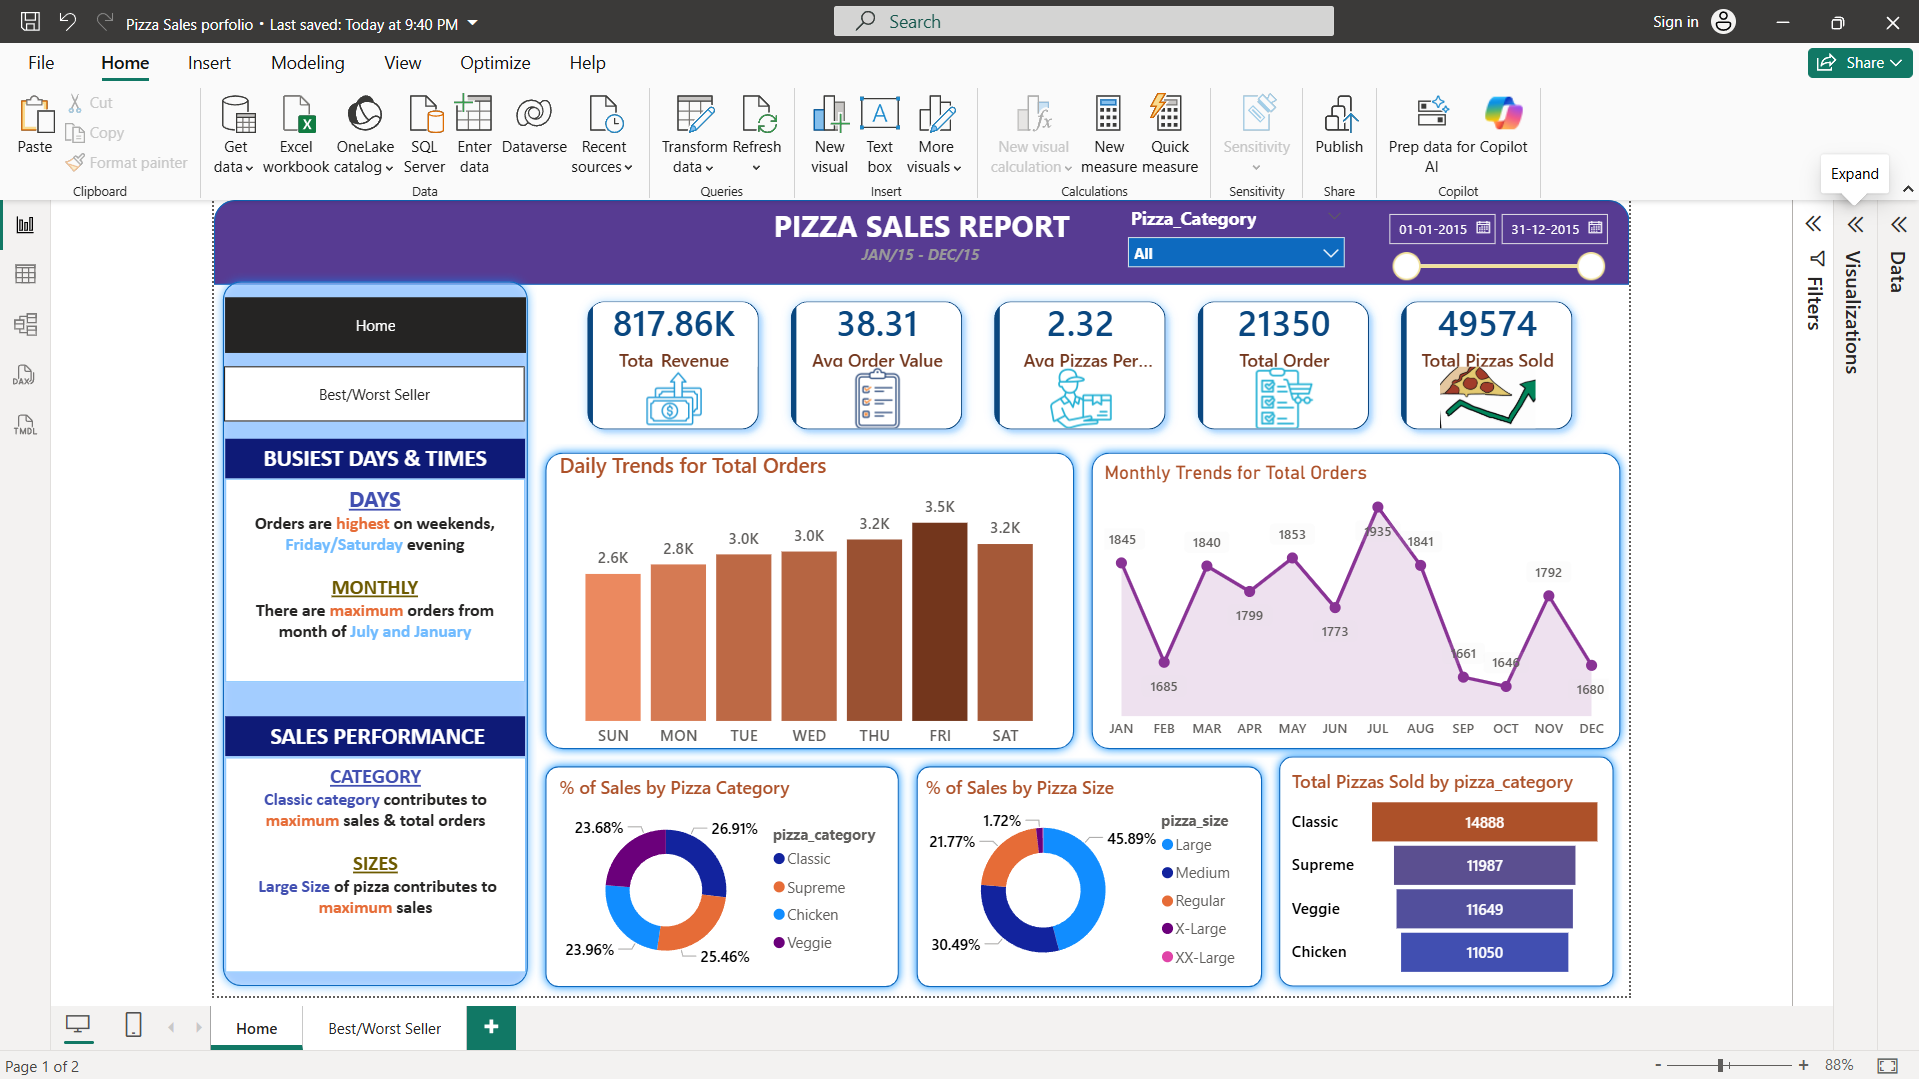

What the dashboard file says about the page in this screenshot:
{"tool":"powerbi","page":{"name":" Home","canvas":[1280,720],"ordinal":0},"visuals":[{"type":"cardVisual","fields":{"Data":["pizza_sales.Tota_Revenue","pizza_sales.Avg Order Value","pizza_sales.Avg Pizzas Per Order","pizza_sales.Total Order","pizza_sales.Total Pizzas Sold"]},"box":[290.9,64.9,989.6,170.1],"z":0},{"type":"shape","box":[0,0,1280.2,76.7],"z":1000},{"type":"textbox","box":[484.9,0,310.5,48.8],"z":2000},{"type":"textbox","box":[565.1,34.9,147.7,30.2],"z":3000},{"type":"shape","box":[291.4,220,494.3,284.3],"z":4000},{"type":"columnChart","title":"Daily Trends for Total Orders","fields":{"Category":["pizza_sales.Order Day"],"Y":["pizza_sales.Total Order"]},"box":[307.1,227.1,462.9,277.1],"z":5000},{"type":"shape","box":[785.7,220,494.3,284.3],"z":5001},{"type":"areaChart","title":" Monthly Trends for Total Orders","fields":{"Category":["pizza_sales.Order Month"],"Y":["pizza_sales.Total Order"]},"box":[800,236.4,466.2,259.7],"z":5002},{"type":"shape","box":[291.4,504.3,335.7,215.7],"z":5003},{"type":"shape","box":[627.1,504.3,328.6,215.7],"z":5004},{"type":"shape","box":[955.7,495.7,318.6,224.3],"z":5005},{"type":"donutChart","title":"% of Sales by Pizza Category","fields":{"Category":["pizza_sales.pizza_category"],"Y":["pizza_sales.Tota_Revenue"]},"box":[307.1,520,302.9,187.1],"z":5006},{"type":"donutChart","title":"% of Sales by Pizza Size","fields":{"Y":["pizza_sales.Tota_Revenue"],"Category":["pizza_sales.pizza_size"]},"box":[638.6,520,302.9,187.1],"z":5007},{"type":"funnel","fields":{"Category":["pizza_sales.pizza_category"],"Y":["pizza_sales.Total Pizzas Sold"]},"box":[970,514.3,291.4,192.9],"z":5008},{"type":"shape","box":[0,65.1,291.9,653.5],"z":5009},{"type":"textbox","box":[10.5,216.3,270.9,36],"z":5010},{"type":"textbox","box":[10.5,252.3,270.9,183.7],"z":5011},{"type":"textbox","box":[10.5,467.4,270.9,36],"z":5012},{"type":"textbox","box":[10.5,504.7,272.1,194.2],"z":5013},{"type":"slicer","fields":{"Values":["pizza_sales.pizza_category"]},"box":[816.3,0,216.3,65.1],"z":5014},{"type":"slicer","fields":{"Values":["pizza_sales.order_date"]},"box":[1050,2.3,216.3,74.4],"z":5015},{"type":"pageNavigator","box":[10.5,88.4,272.1,50],"z":5016},{"type":"pageNavigator","box":[9.3,150,272.1,50],"z":5017}]}

Visuals, with their boxes on the page's 1280x720 design canvas (x1, y1, x2, y2). These are canvas units, not pixel positions in the 1919x1079 screenshot, which may show the page scaled, cropped or inside an application window:
cardVisual - pizza_sales.Tota_Revenue x pizza_sales.Avg Order Value: 291, 65, 1280, 235
shape: 0, 0, 1280, 77
textbox: 485, 0, 795, 49
textbox: 565, 35, 713, 65
shape: 291, 220, 786, 504
"Daily Trends for Total Orders" columnChart: 307, 227, 770, 504
shape: 786, 220, 1280, 504
" Monthly Trends for Total Orders" areaChart: 800, 236, 1266, 496
shape: 291, 504, 627, 720
shape: 627, 504, 956, 720
shape: 956, 496, 1274, 720
"% of Sales by Pizza Category" donutChart: 307, 520, 610, 707
"% of Sales by Pizza Size" donutChart: 639, 520, 942, 707
funnel - pizza_sales.pizza_category x pizza_sales.Total Pizzas Sold: 970, 514, 1261, 707
shape: 0, 65, 292, 719
textbox: 10, 216, 281, 252
textbox: 10, 252, 281, 436
textbox: 10, 467, 281, 503
textbox: 10, 505, 283, 699
slicer - pizza_sales.pizza_category: 816, 0, 1033, 65
slicer - pizza_sales.order_date: 1050, 2, 1266, 77
pageNavigator: 10, 88, 283, 138
pageNavigator: 9, 150, 281, 200
